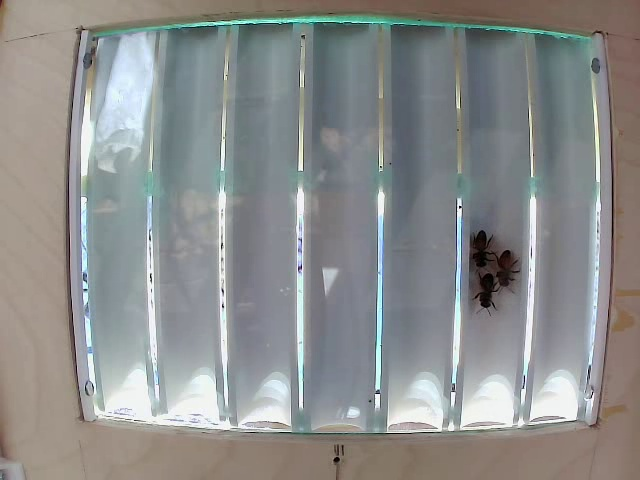bee: (496, 250, 524, 297), (463, 226, 486, 267), (479, 277, 505, 313)
